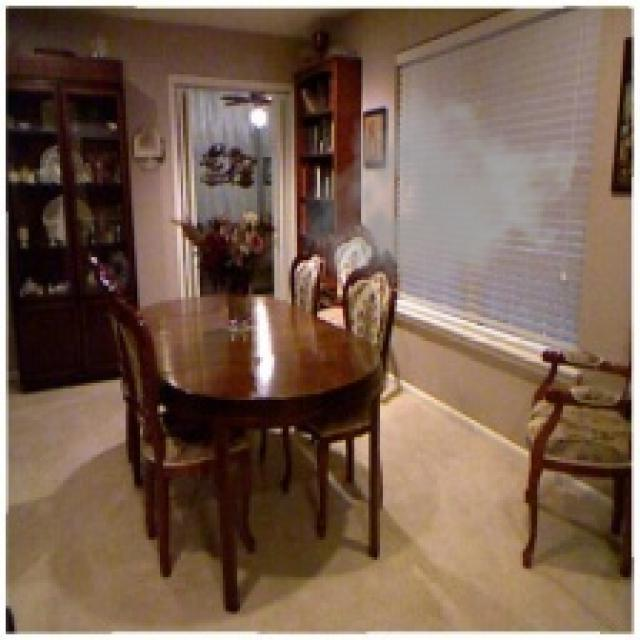Smoke: (297, 86, 580, 312)
